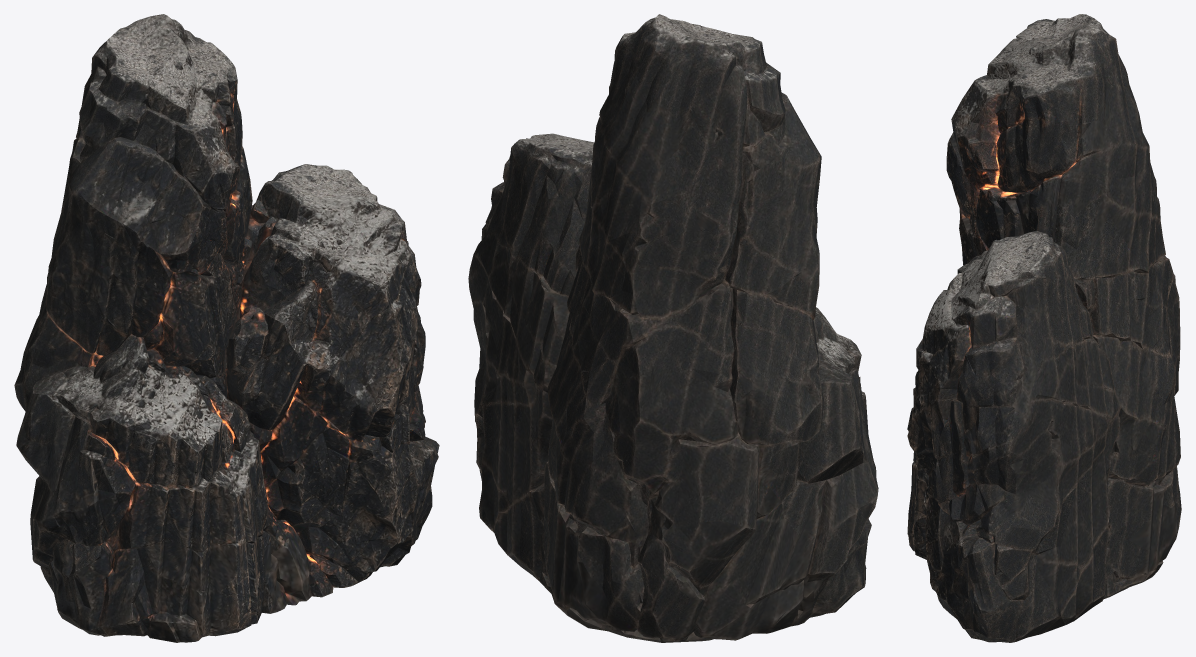
Rendered from rock_mid.glb.
The picture shows the model from 3 angles, left to right: view 1: azimuth 30°, elevation 25°; view 2: azimuth 150°, elevation 25°; view 3: azimuth 270°, elevation 25°; orthographic projection. The views are drawn at different scales.
Size of the model in its own units: 1.38 by 1.9 by 0.8907.
Materials: 1 (1 with a texture image).
